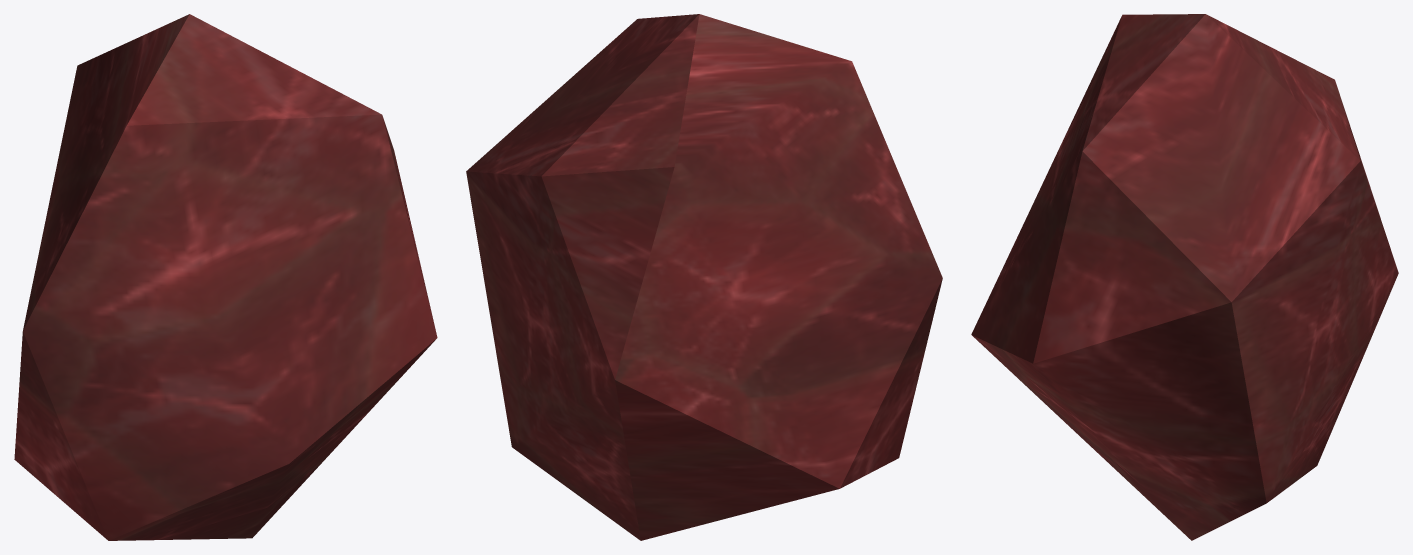
The model's file is cry.fbx.
The picture shows the model from 3 angles, left to right: view 1: azimuth 30°, elevation 25°; view 2: azimuth 150°, elevation 25°; view 3: azimuth 270°, elevation 25°; orthographic projection. The views are drawn at different scales.
Parts seen in each view (by area): view 1: pSphere1; view 2: pSphere1; view 3: pSphere1.
Part boxes in pixels (x1=…): pSphere1: x1=14, y1=14, x2=437, y2=540; pSphere1: x1=466, y1=14, x2=942, y2=540; pSphere1: x1=971, y1=14, x2=1398, y2=540.
Size of the model in its own units: 2.47 by 2.98 by 2.3.
